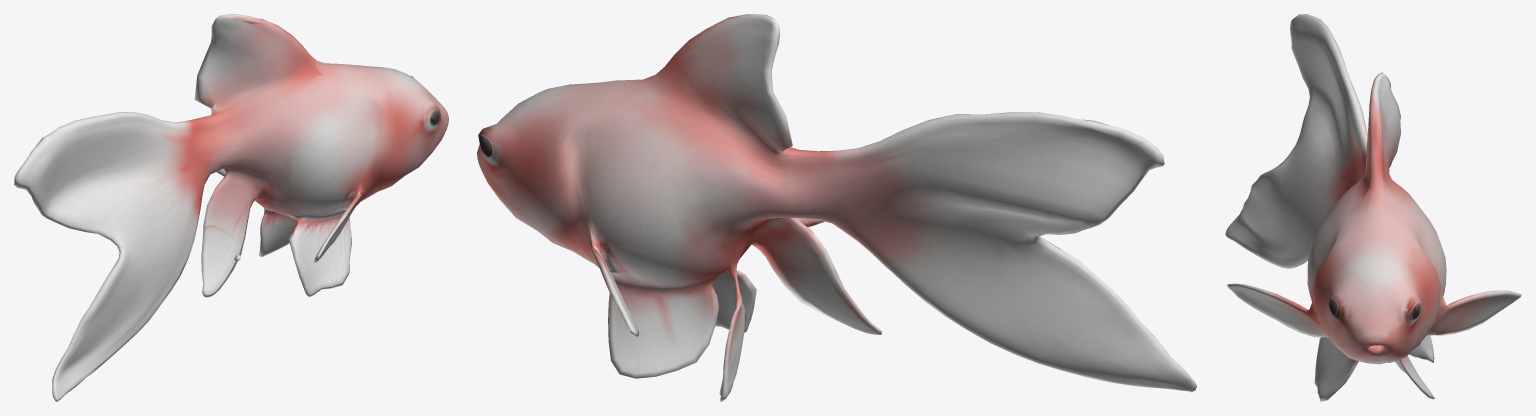
Rendered from white fish.glb.
3 views of the same model, side by side, from view 1: azimuth 30°, elevation 25°; view 2: azimuth 150°, elevation 25°; view 3: azimuth 270°, elevation 25° (orthographic). The views are drawn at different scales.
Visible parts, largest first — view 1: tripo_node_33accaf7-71a3-4e38-afa2-fd7e9f8e18fb; view 2: tripo_node_33accaf7-71a3-4e38-afa2-fd7e9f8e18fb; view 3: tripo_node_33accaf7-71a3-4e38-afa2-fd7e9f8e18fb.
Part boxes in pixels (x1=…): tripo_node_33accaf7-71a3-4e38-afa2-fd7e9f8e18fb: x1=14, y1=14, x2=448, y2=401; tripo_node_33accaf7-71a3-4e38-afa2-fd7e9f8e18fb: x1=477, y1=14, x2=1196, y2=401; tripo_node_33accaf7-71a3-4e38-afa2-fd7e9f8e18fb: x1=1225, y1=14, x2=1521, y2=401.
Size of the model in its own units: 0.9711 by 0.5407 by 0.5082.
Materials: 1 (1 with a texture image).
